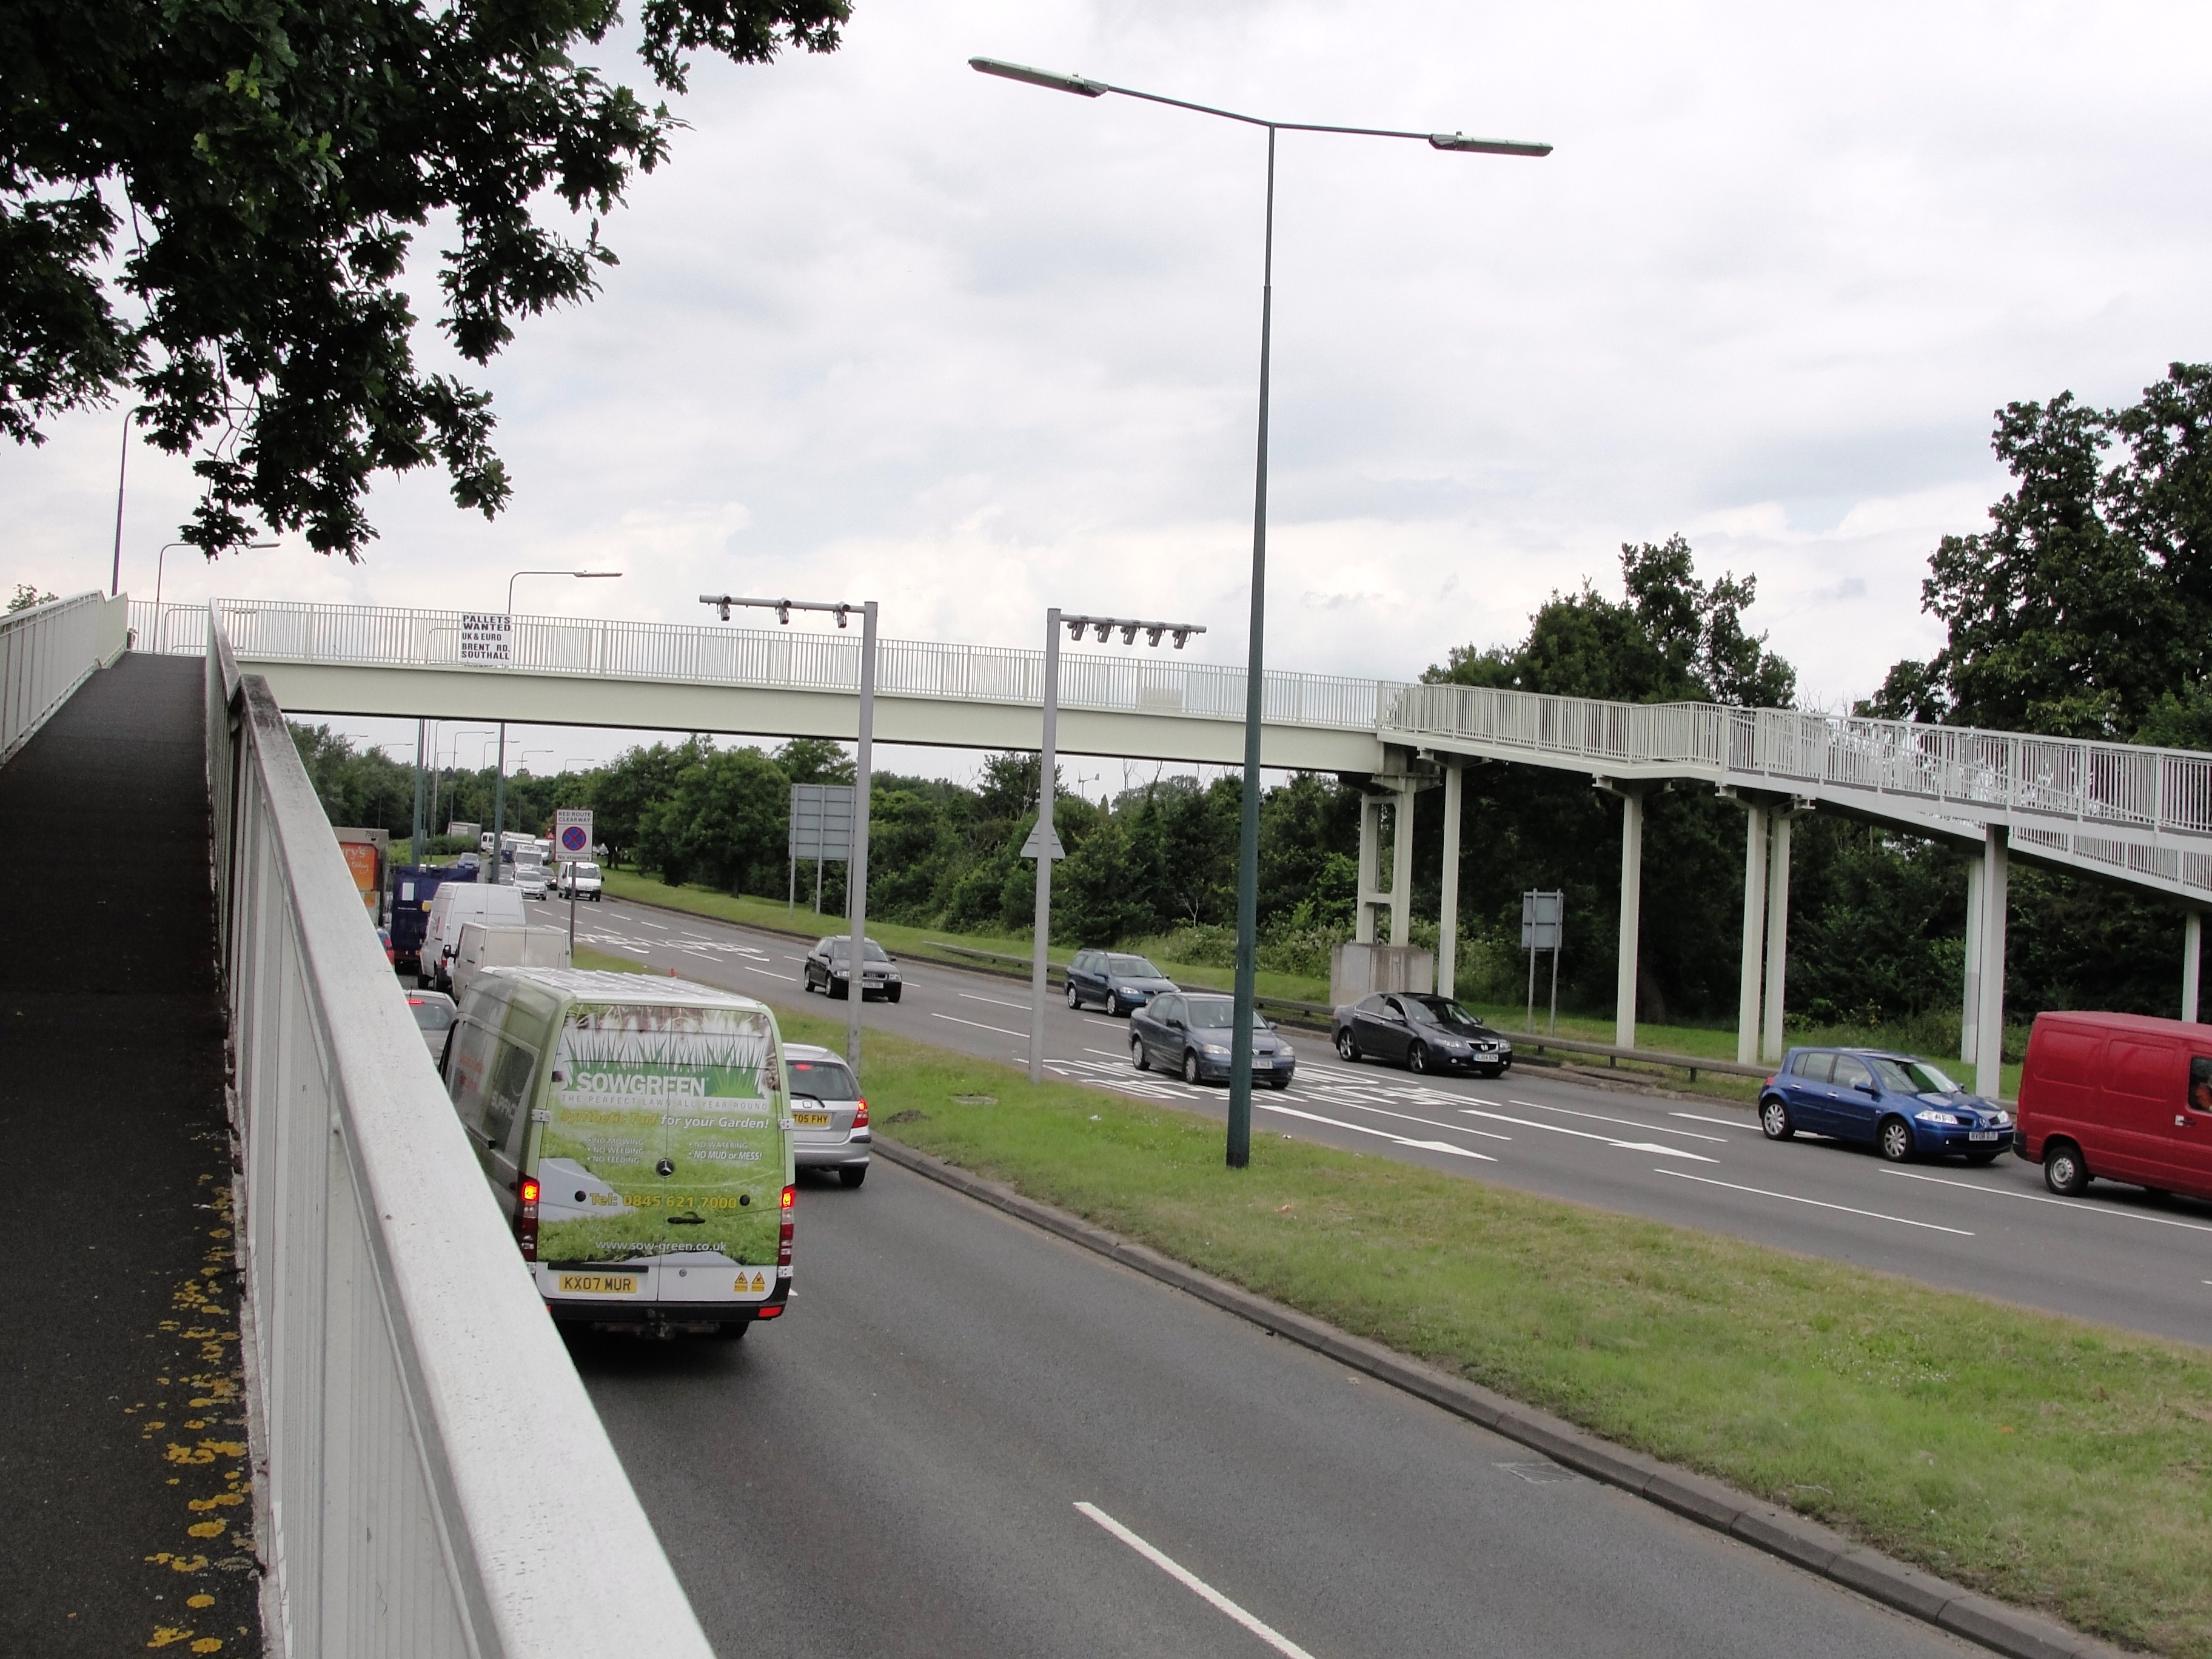bridge: (204, 589, 2212, 918)
